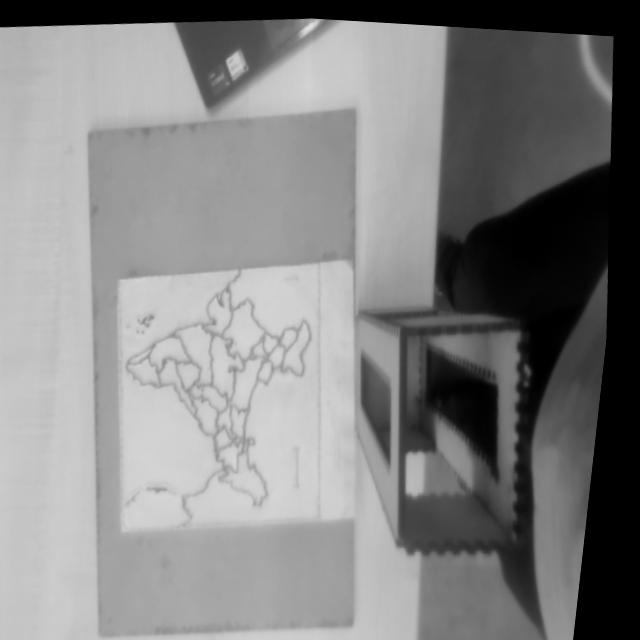map: (118, 262, 320, 528)
